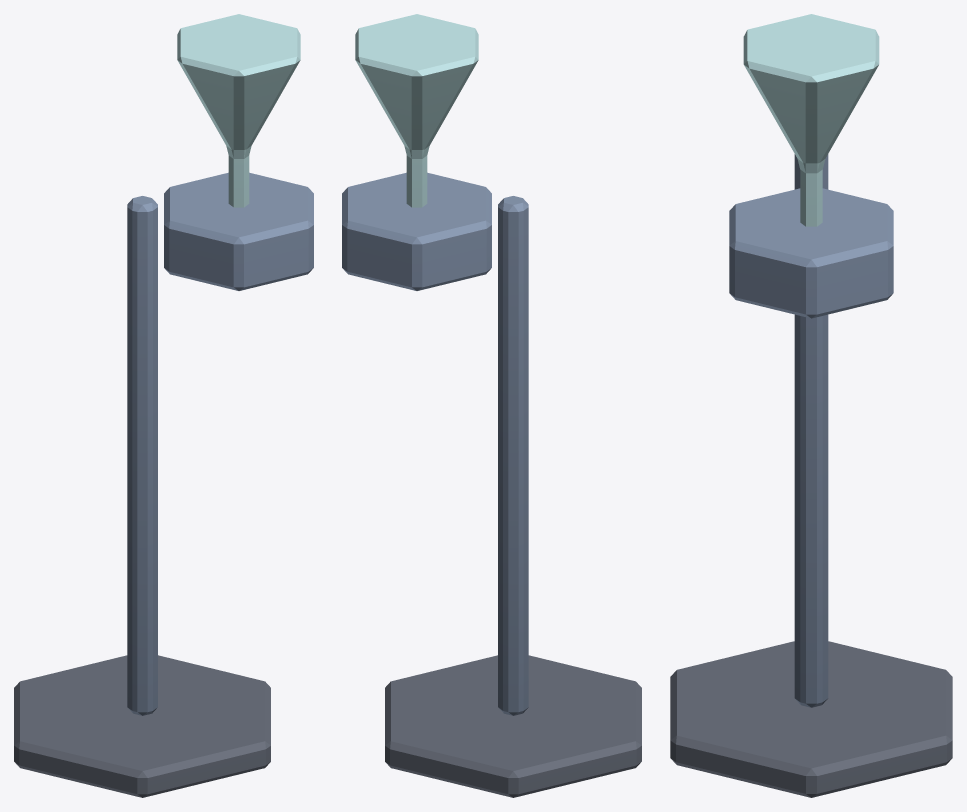
The model's file is funnel_stand.glb.
The picture shows the model from 3 angles, left to right: view 1: azimuth 30°, elevation 25°; view 2: azimuth 150°, elevation 25°; view 3: azimuth 270°, elevation 25°; orthographic projection. The views are drawn at different scales.
Visible parts, largest first — view 1: funnel_stand; view 2: funnel_stand; view 3: funnel_stand.
Part boxes in pixels (bbox=[...]): funnel_stand: bbox=[14, 14, 313, 797]; funnel_stand: bbox=[342, 14, 641, 797]; funnel_stand: bbox=[670, 14, 952, 797].
Bounding box in the file's own units: 0.2293 × 0.5 × 0.1732.
1 material, 1 textured.
